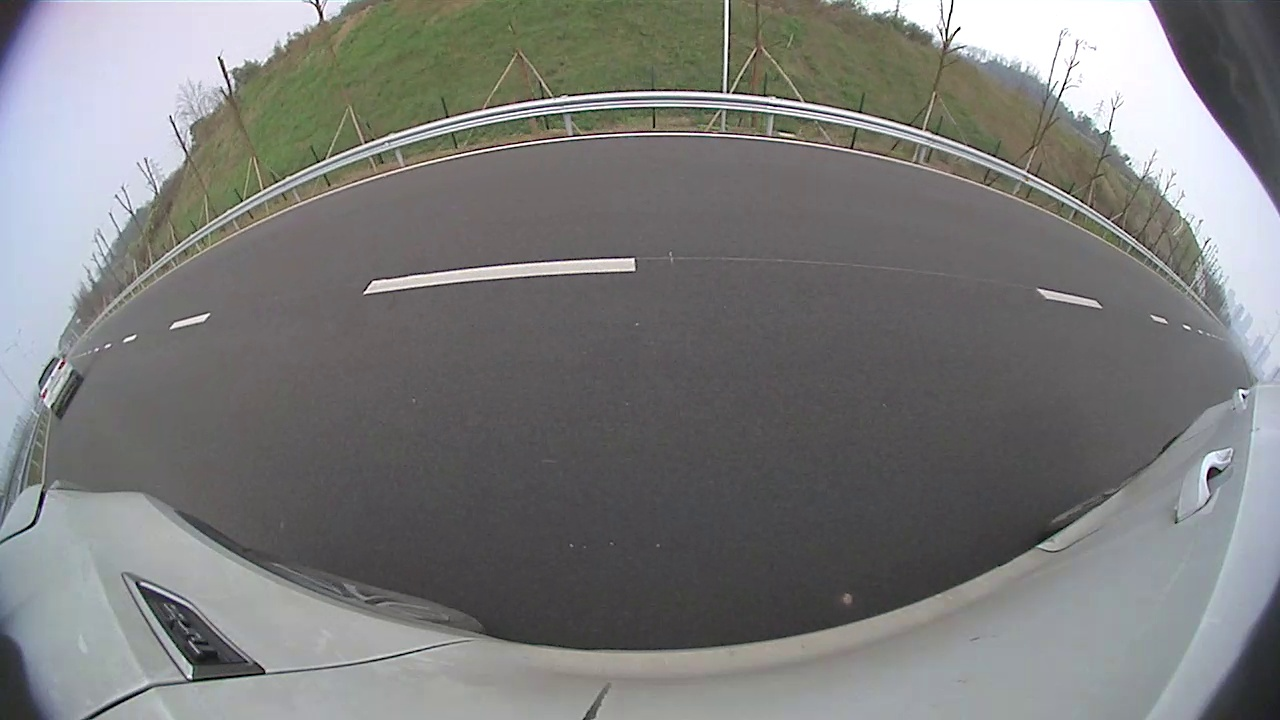car: (701, 141, 786, 204)
rear: (710, 175, 722, 202)
